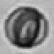correct: (2, 3, 51, 52)
